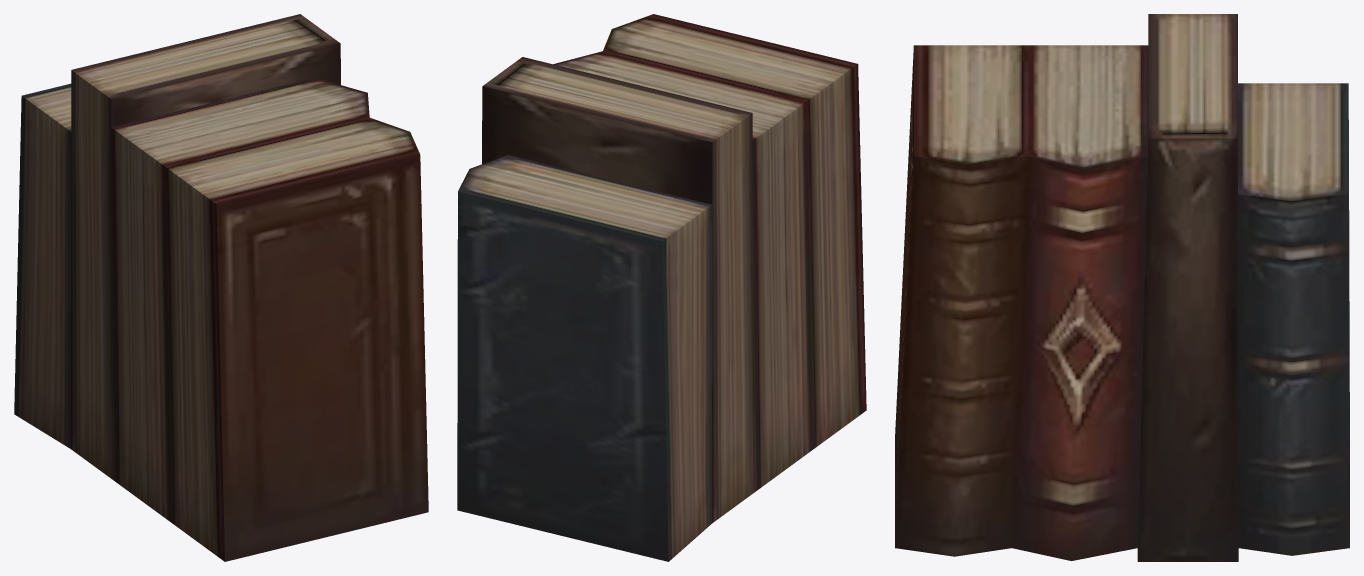
3 views of the same model, side by side, from view 1: azimuth 30°, elevation 25°; view 2: azimuth 150°, elevation 25°; view 3: azimuth 270°, elevation 25° (orthographic). The views are drawn at different scales.
Size of the model in its own units: 0.3392 by 0.5212 by 0.5078.
Materials: 1 (1 with a texture image).
